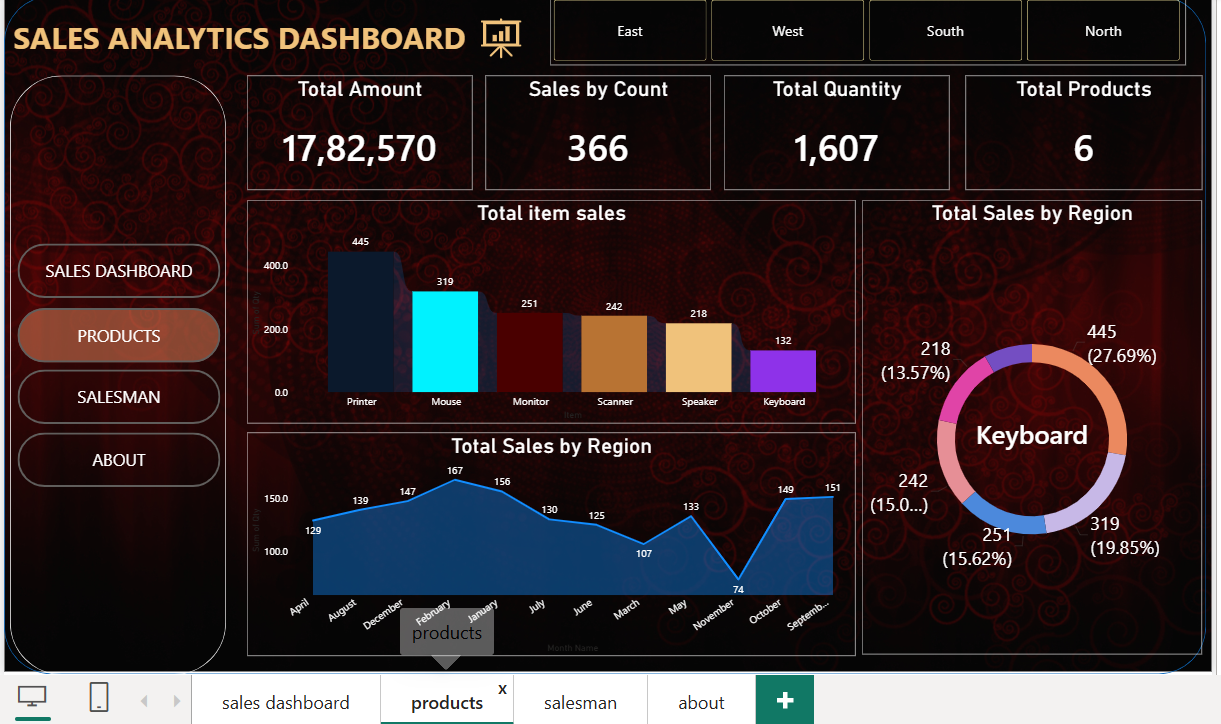

Layout of this report page (visuals, bound fields, positions):
{"tool":"powerbi","page":{"name":"products","canvas":[1920,1080],"ordinal":1},"visuals":[{"type":"shape","box":[0,0,1912.1,1078.5],"z":0},{"type":"shape","box":[9,125.5,343.6,953],"z":1000},{"type":"cardVisual","title":"Total Amount","fields":{"Data":["data.Total Sales"]},"box":[385.4,125.5,358.5,182.2],"z":2000},{"type":"cardVisual","title":"Sales  by Count","fields":{"Data":["data.Total"]},"box":[764.8,125.5,358.5,182.2],"z":3000},{"type":"cardVisual","title":"Total Quantity","fields":{"Data":["data.Total quantity"]},"box":[1144.3,125.5,358.5,182.2],"z":4000},{"type":"cardVisual","title":"Total Products","fields":{"Data":["data.Total Items"]},"box":[1529.7,125.5,376.4,182.2],"z":5000},{"type":"columnChart","title":"Total item sales","fields":{"Category":["data.Item"],"Y":["Sum(data.Qty)"]},"box":[385.4,325.6,968,355.5],"z":6000},{"type":"donutChart","title":"Total Sales by Region","fields":{"Category":["data.Item"],"Y":["Sum(data.Qty)"]},"box":[1365.3,325.6,540.8,723],"z":7000},{"type":"lineChart","title":"Total Sales by Region","fields":{"Category":["data.Month Name"],"Y":["Sum(data.Qty)"]},"box":[385.4,693.1,968,355.5],"z":8000},{"type":"actionButton","box":[20.9,394.4,322.7,86.6],"z":9000},{"type":"actionButton","box":[20.9,495.9,322.7,86.6],"z":10000},{"type":"actionButton","box":[20.9,594.5,322.7,86.6],"z":11000},{"type":"actionButton","box":[20.9,693.1,322.7,86.6],"z":12000},{"type":"textbox","box":[9.5,26.2,935.3,100.2],"z":13000},{"type":"image","box":[713.4,26.2,155.1,81.1],"z":14000},{"type":"advancedSlicerVisual","title":"Total Sales by Region","fields":{"Values":["data.Region"]},"box":[868.5,0,1011.6,109.8],"z":15000},{"type":"cardVisual","title":"Total Products","fields":{"Data":["Min(data.Item)"]},"box":[1479.3,603.6,312.6,181.3],"z":16000}]}

Visuals, with their boxes on the page's 1920x1080 design canvas (x1, y1, x2, y2). These are canvas units, not pixel positions in the 1221x724 screenshot, which may show the page scaled, cropped or inside an application window:
shape: l=0, t=0, r=1912, b=1078
shape: l=9, t=126, r=353, b=1078
"Total Amount" cardVisual: l=385, t=126, r=744, b=308
"Sales  by Count" cardVisual: l=765, t=126, r=1123, b=308
"Total Quantity" cardVisual: l=1144, t=126, r=1503, b=308
"Total Products" cardVisual: l=1530, t=126, r=1906, b=308
"Total item sales" columnChart: l=385, t=326, r=1353, b=681
"Total Sales by Region" donutChart: l=1365, t=326, r=1906, b=1049
"Total Sales by Region" lineChart: l=385, t=693, r=1353, b=1049
actionButton: l=21, t=394, r=344, b=481
actionButton: l=21, t=496, r=344, b=582
actionButton: l=21, t=594, r=344, b=681
actionButton: l=21, t=693, r=344, b=780
textbox: l=10, t=26, r=945, b=126
image: l=713, t=26, r=868, b=107
"Total Sales by Region" advancedSlicerVisual: l=868, t=0, r=1880, b=110
"Total Products" cardVisual: l=1479, t=604, r=1792, b=785
